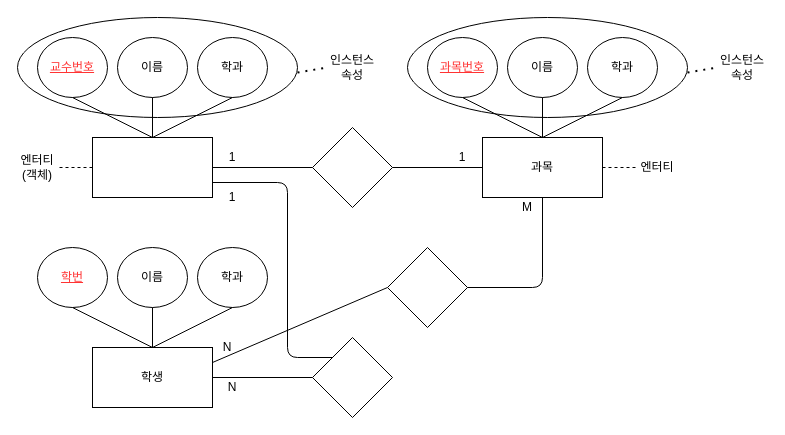
Image size: 785x435. Some labels were removed from this diagram. The centre of each missing label's shape, as x and y in pixels:
강 의: the point at 352,167
교수: the point at 152,167
등록: the point at 427,287
지도: the point at 352,377
